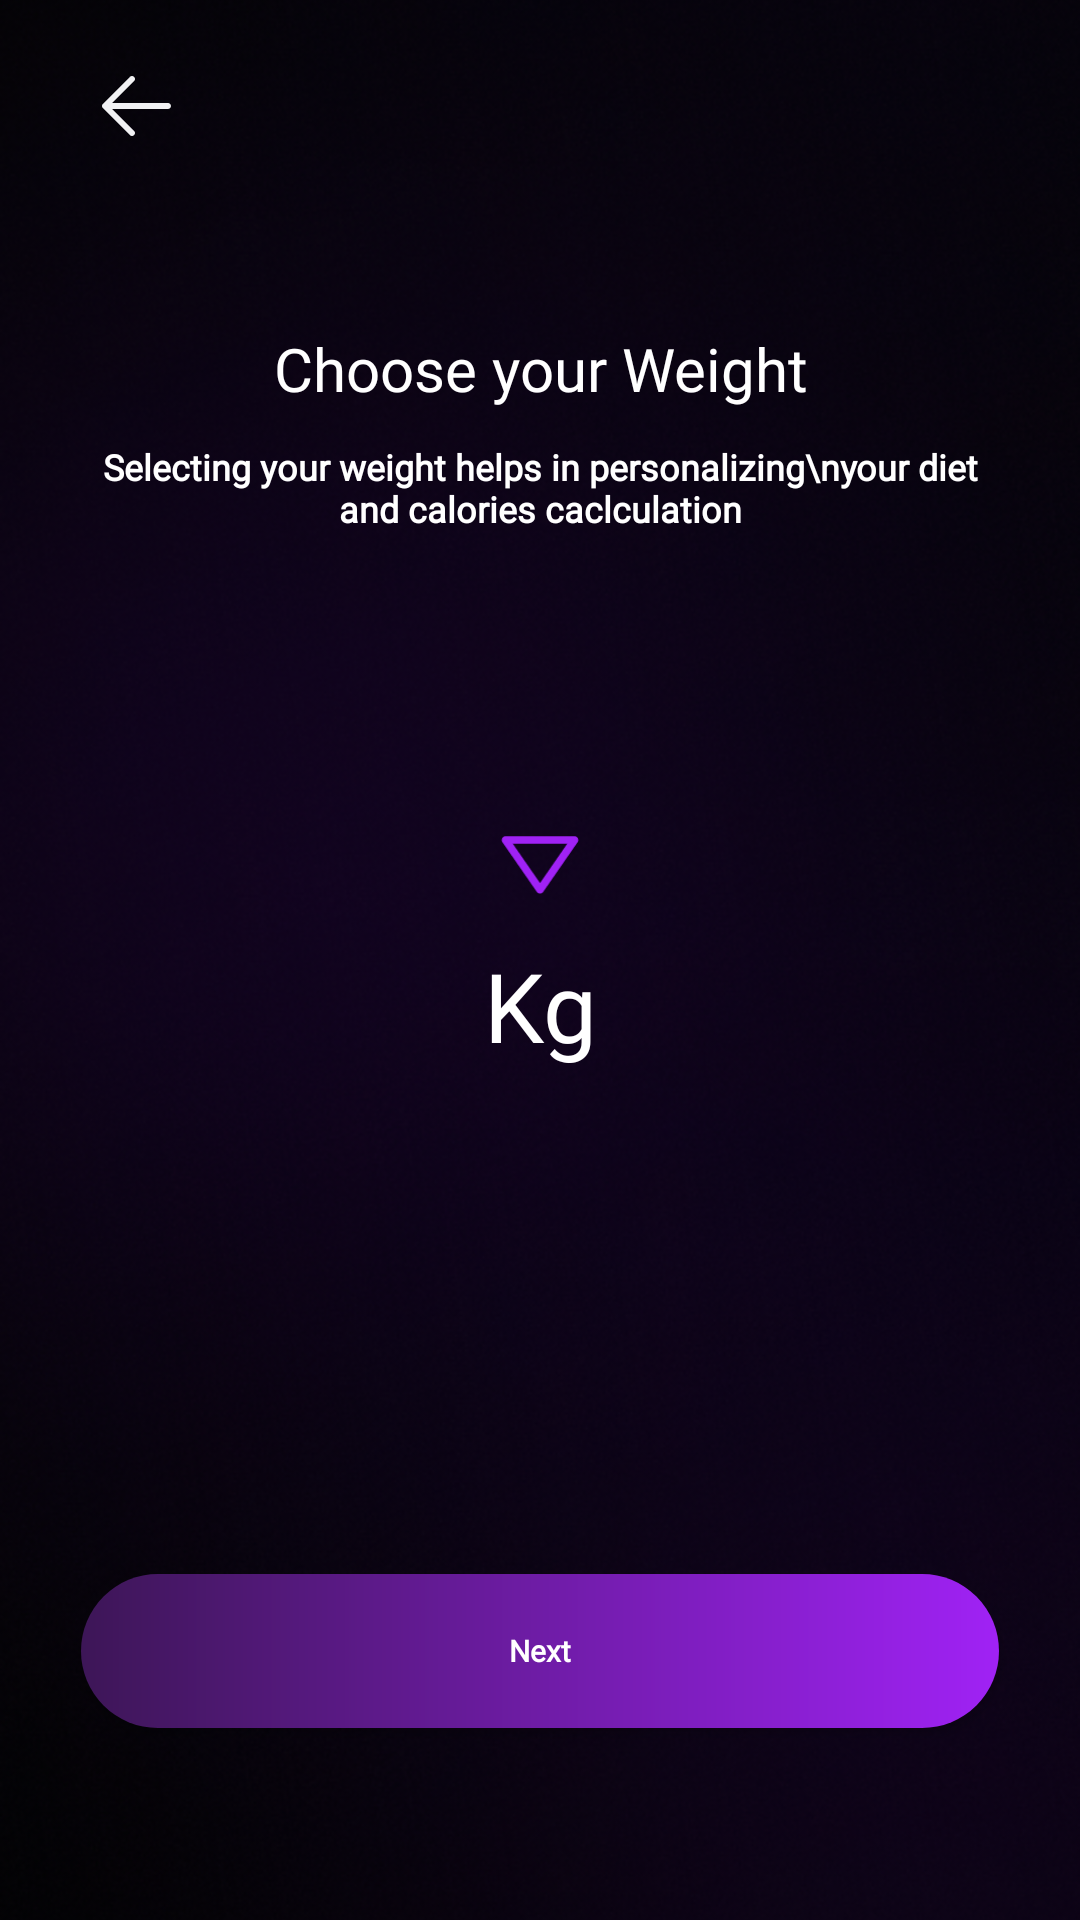

Locate icon controls on the screen. Image size 1080w x 1920h, boxes as (x1, y1, x2, y2).
arrow: (501, 836, 579, 894)
back: (102, 76, 171, 136)
